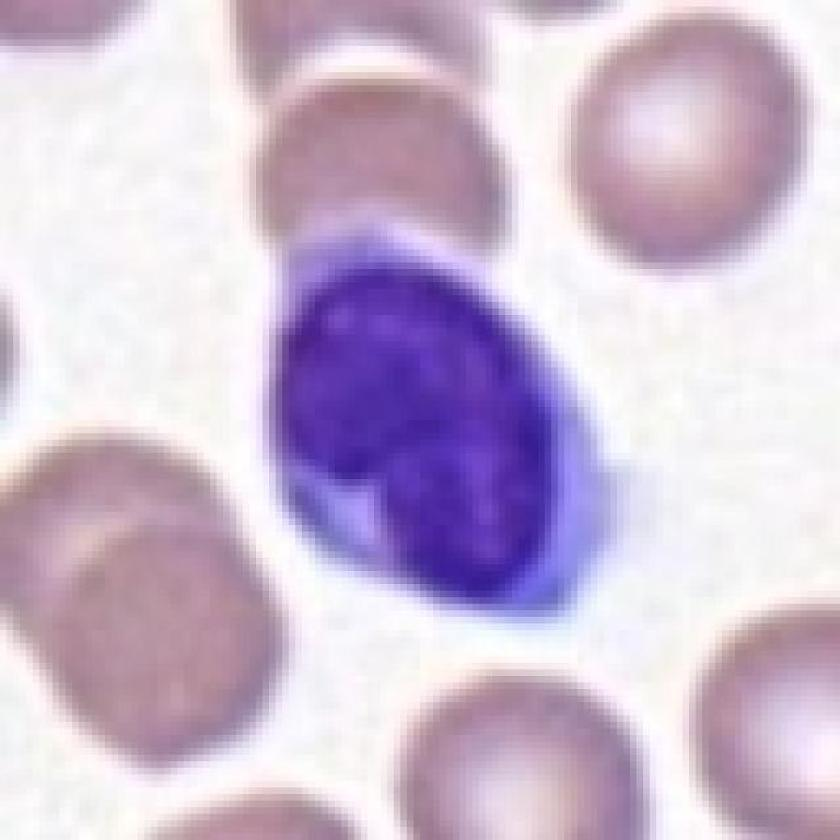lymphocyte: (257, 212, 622, 627)
